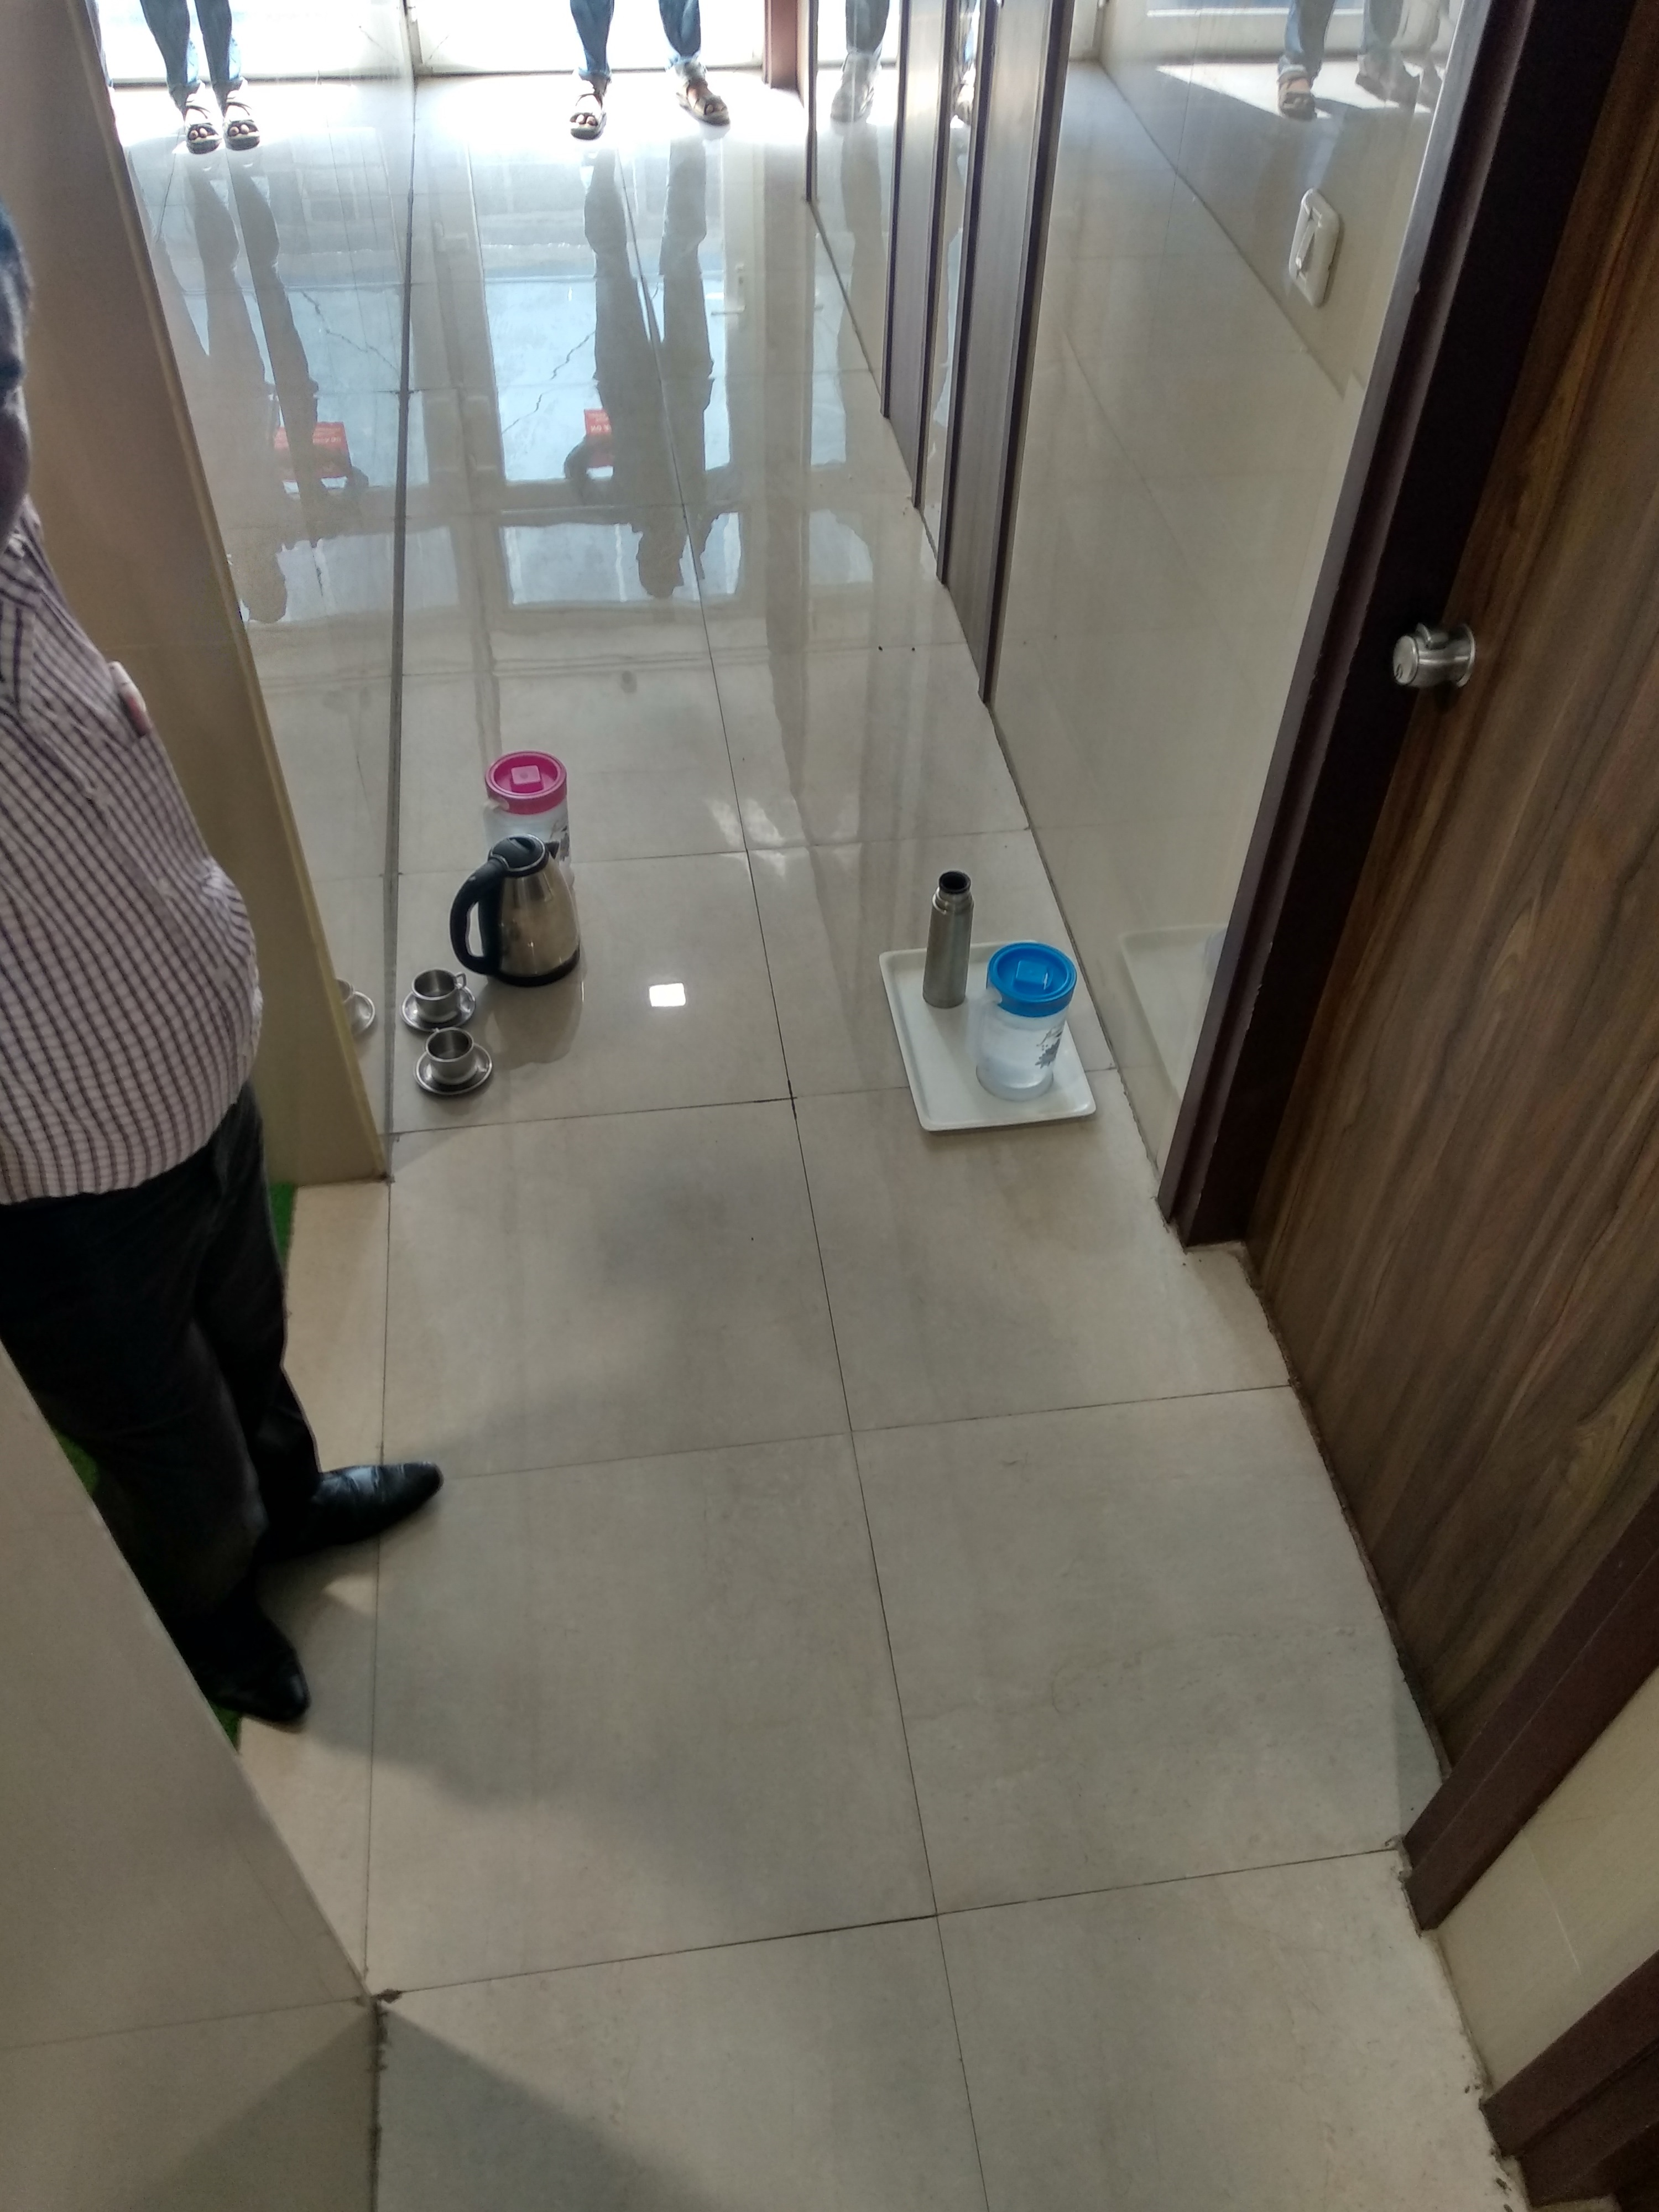CUP: (410, 1029, 495, 1097), (397, 963, 477, 1031)
FLASK: (917, 866, 985, 1015)
JUG: (439, 833, 608, 982), (974, 935, 1093, 1109), (469, 744, 580, 831)
